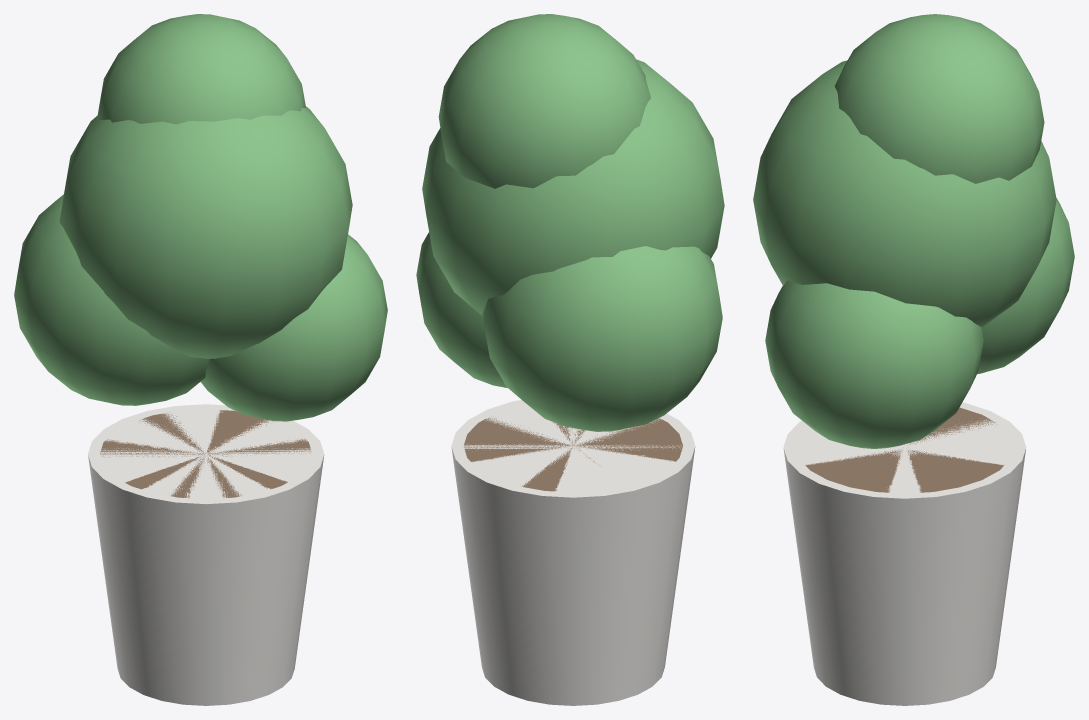
The model's file is potted-plant.glb.
3 views of the same model, side by side, from view 1: azimuth 30°, elevation 25°; view 2: azimuth 150°, elevation 25°; view 3: azimuth 270°, elevation 25° (orthographic). The views are drawn at different scales.
Visible parts, largest first — view 1: Leaves (×4), Pot, Soil; view 2: Leaves (×4), Pot, Soil; view 3: Leaves (×4), Pot, Soil.
Part boxes in pixels (left/top/right/bottom): Leaves (×4): left=14, top=14, right=387, bottom=421; Pot: left=88, top=404, right=324, bottom=705; Soil: left=100, top=410, right=311, bottom=498; Leaves (×4): left=416, top=14, right=724, bottom=431; Pot: left=451, top=400, right=695, bottom=705; Soil: left=464, top=417, right=682, bottom=491; Leaves (×4): left=753, top=14, right=1074, bottom=448; Pot: left=783, top=402, right=1026, bottom=705; Soil: left=805, top=407, right=1003, bottom=492.
Size of the model in its own units: 0.6 by 1.18 by 0.53.
